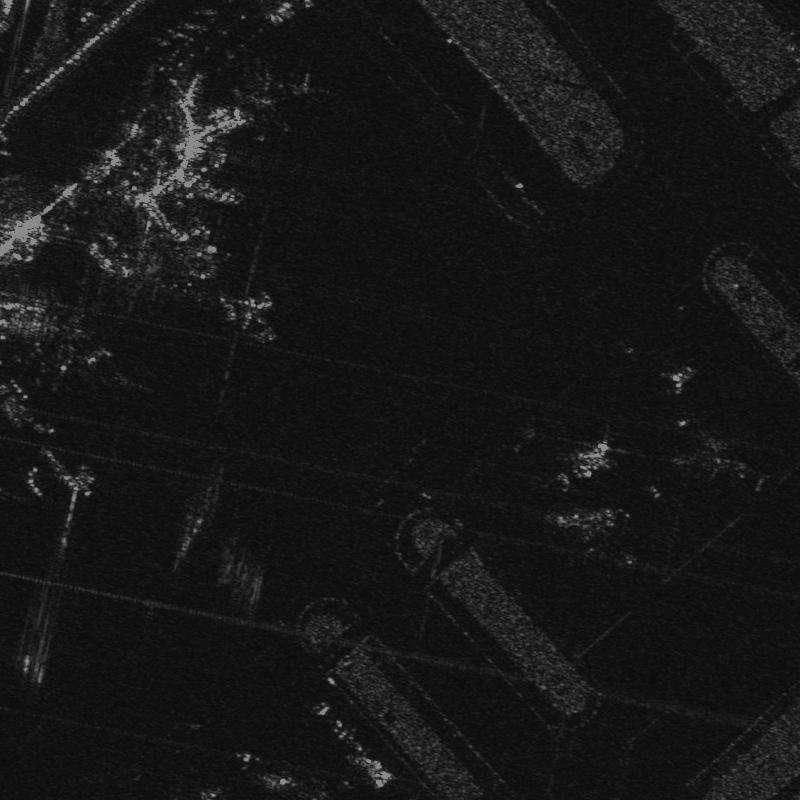Boeing737: (675, 405, 773, 491), (540, 489, 637, 570), (216, 288, 287, 346)
